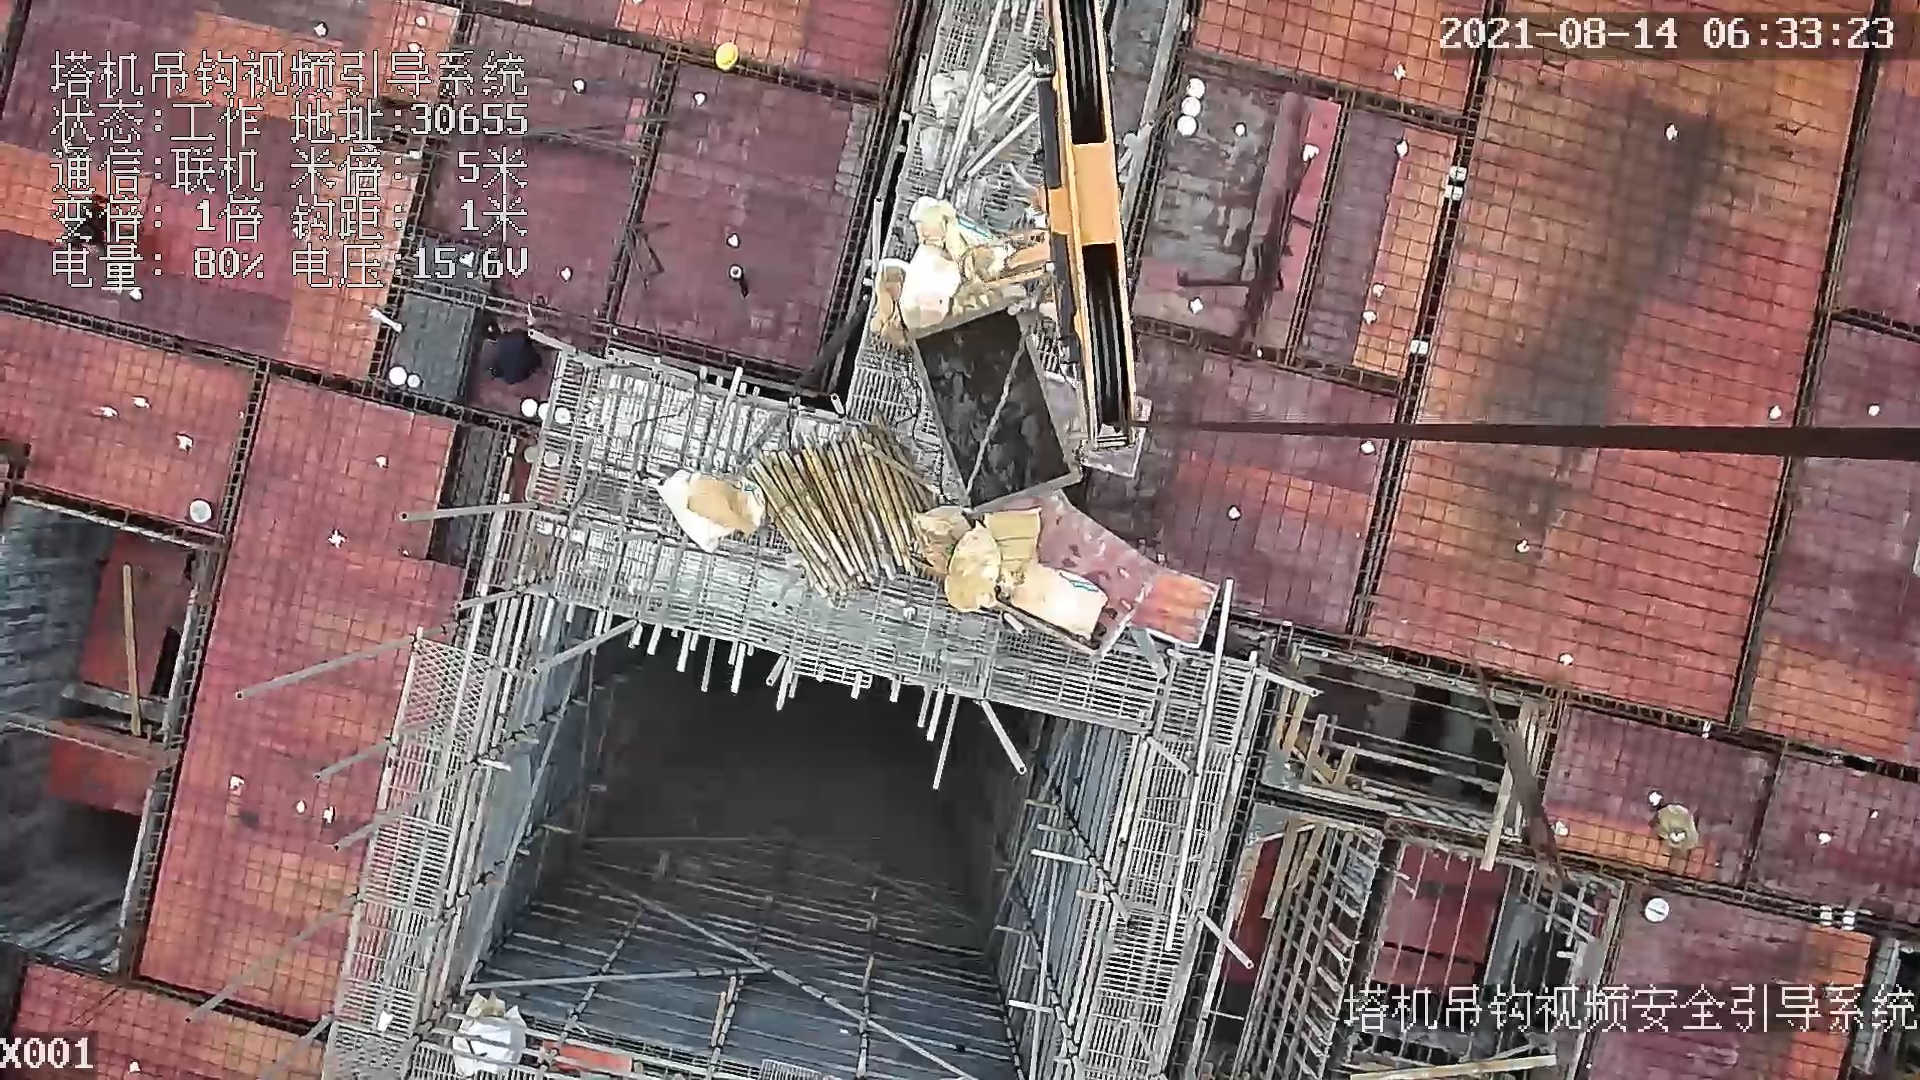helmet: (717, 39, 741, 76)
hook: (978, 1, 1144, 453)
hopper: (912, 301, 1077, 521)
person: (479, 315, 545, 389)
scaffold: (729, 426, 931, 585)
